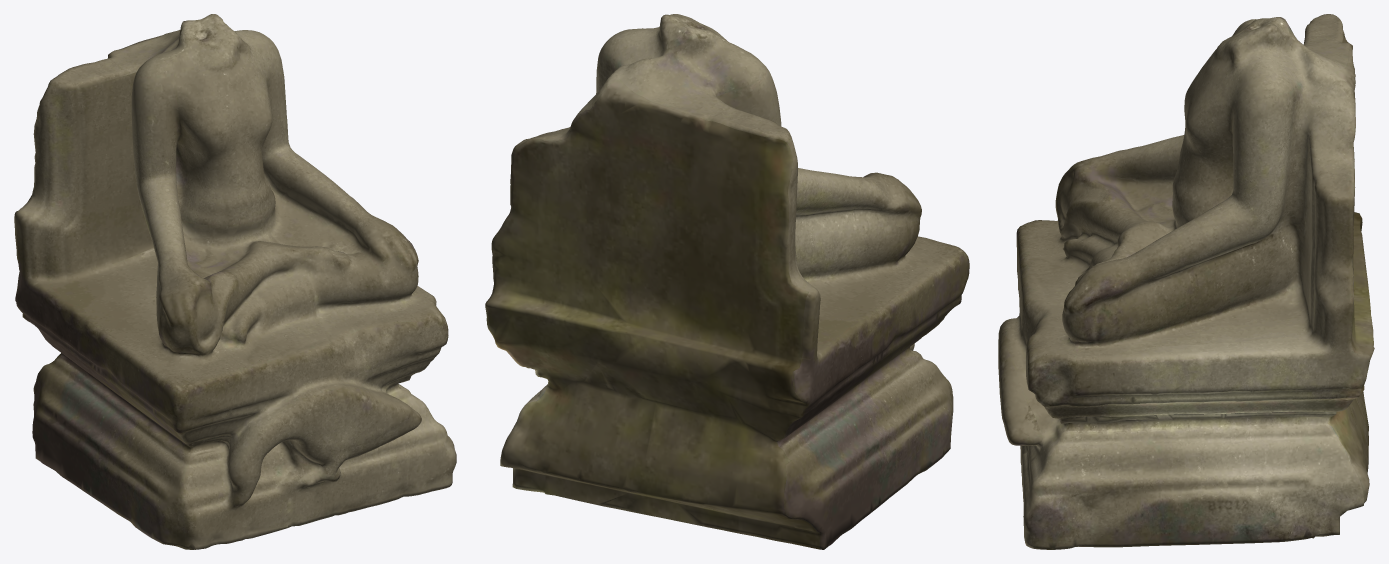
Rendered from 15_thanphuonghuong_varuna_final.glb.
3 renders of one model, left to right at view 1: azimuth 30°, elevation 25°; view 2: azimuth 150°, elevation 25°; view 3: azimuth 270°, elevation 25°, orthographic. The views are drawn at different scales.
Bounding box in the file's own units: 0.3681 × 0.498 × 0.3737.
1 material, 1 textured.
